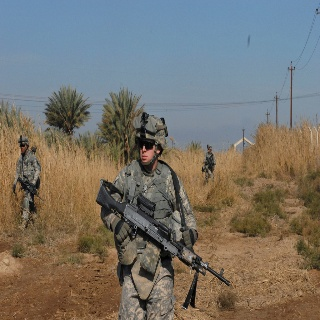rifle: (96, 178, 232, 287), (16, 175, 44, 202)
